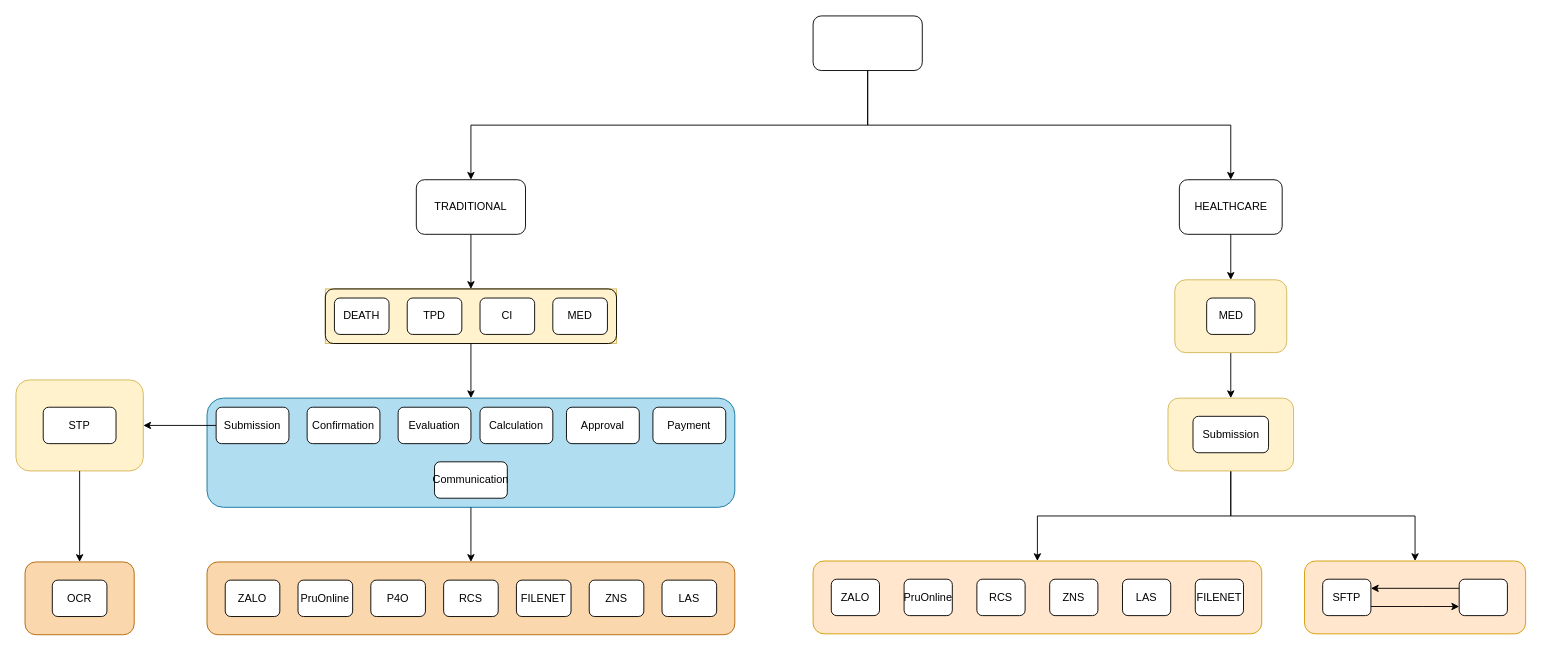
Image size: 1542x651. Some labels were removed from this diagram. The shapes that lost their labels are listed below. From the top down, each one's centre as x and y in pixels, then its label:
point (867, 43): CLAIM
point (1482, 597): INSMART
